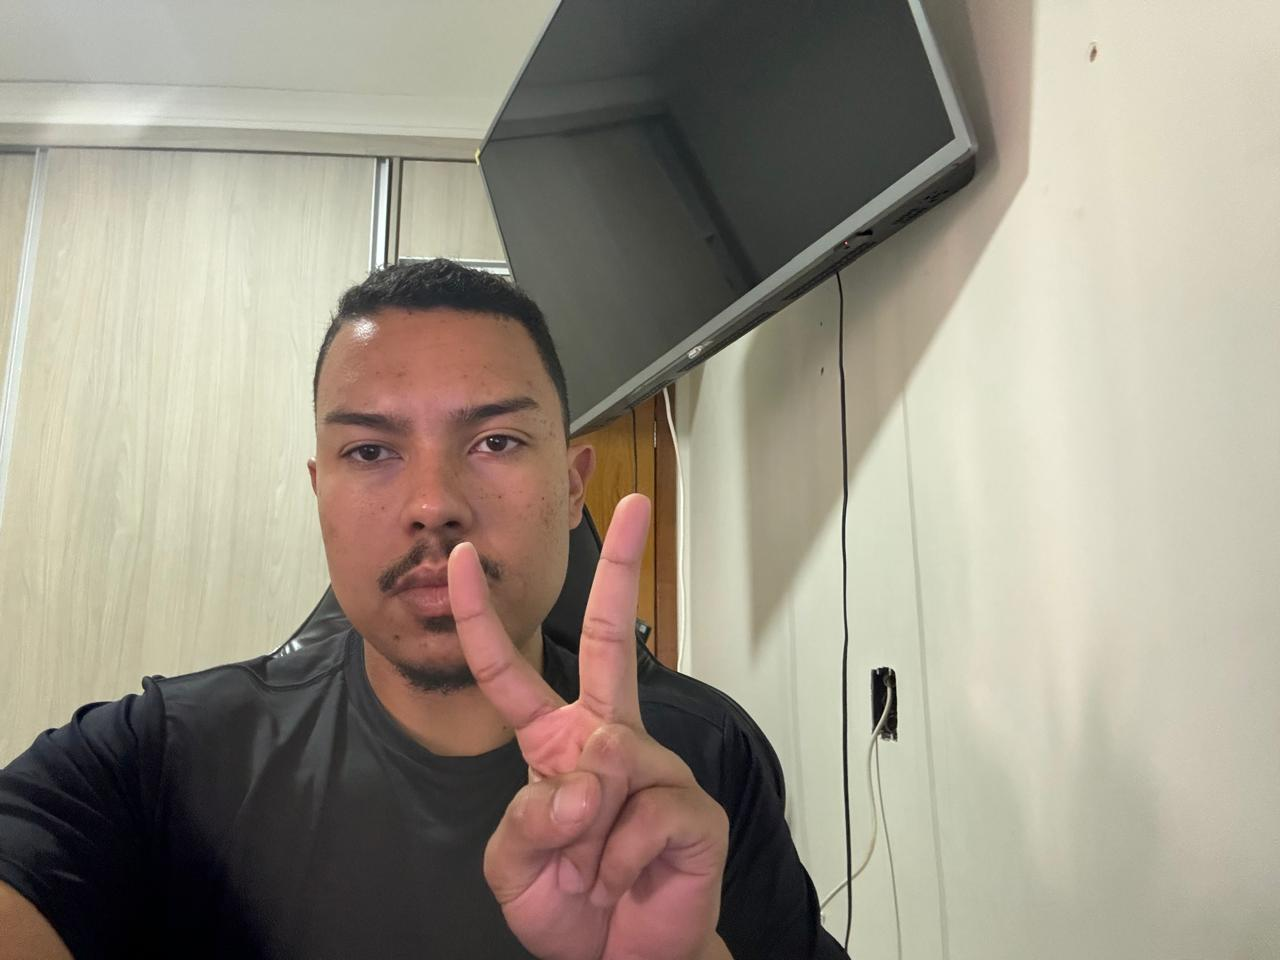v: (411, 482, 733, 960)
